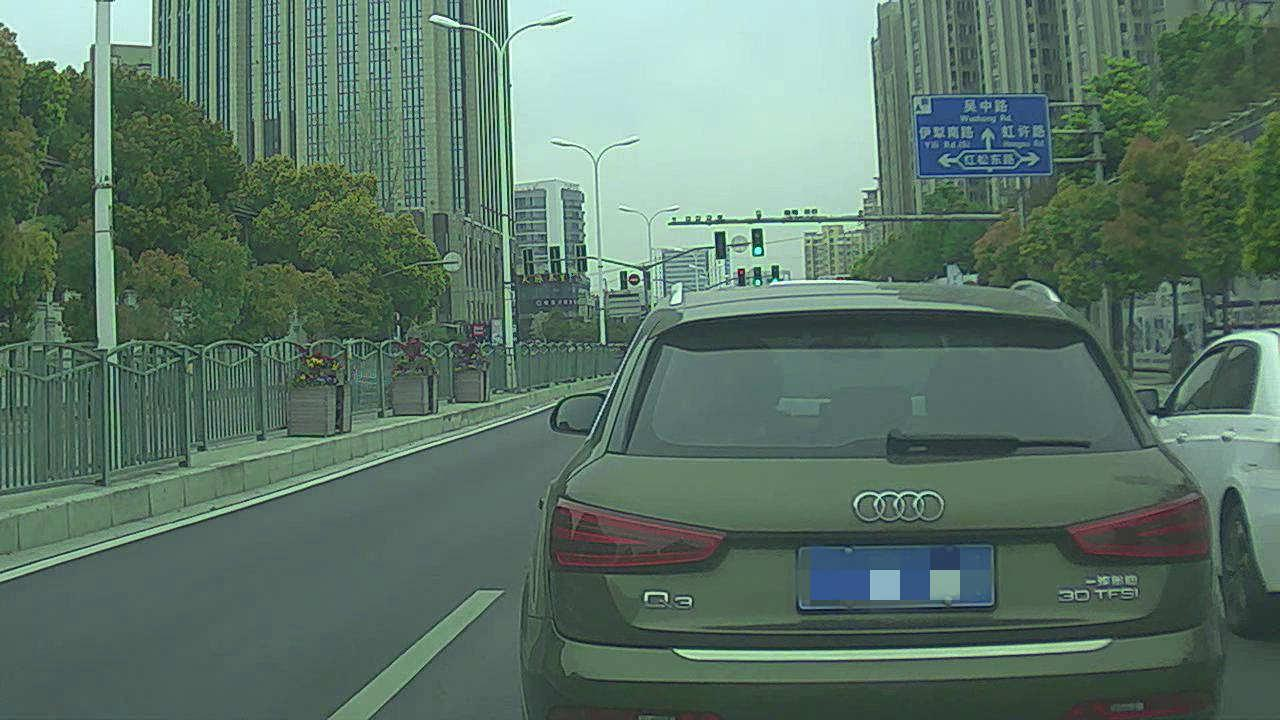traffic_light: (751, 229, 765, 259), (715, 233, 726, 259), (770, 266, 780, 284), (753, 266, 761, 287), (739, 267, 746, 287)
